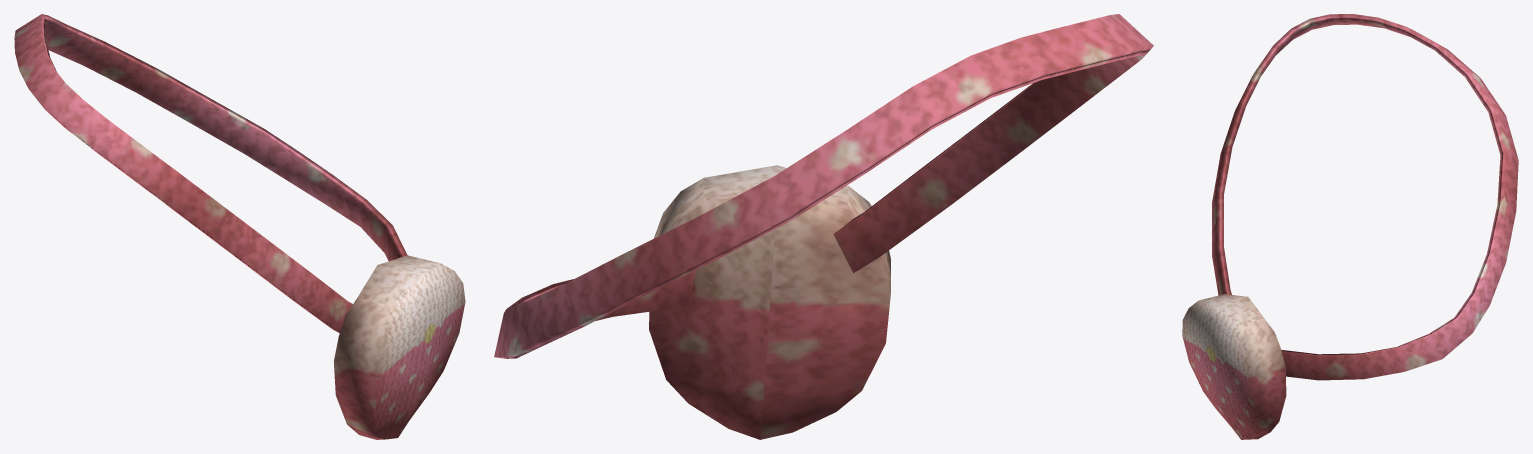
The model's file is M_BagA_4.glb.
The picture shows the model from 3 angles, left to right: view 1: azimuth 30°, elevation 25°; view 2: azimuth 150°, elevation 25°; view 3: azimuth 270°, elevation 25°; orthographic projection. The views are drawn at different scales.
Parts seen in each view (by area): view 1: SM_BagA; view 2: SM_BagA; view 3: SM_BagA.
Boxes of the visible parts, box(x1,y1,x2,y2) form: SM_BagA: box(14, 14, 465, 439); SM_BagA: box(494, 14, 1153, 439); SM_BagA: box(1182, 14, 1518, 439).
Bounding box in the file's own units: 0.4442 × 0.4484 × 0.427.
1 material, 1 textured.
